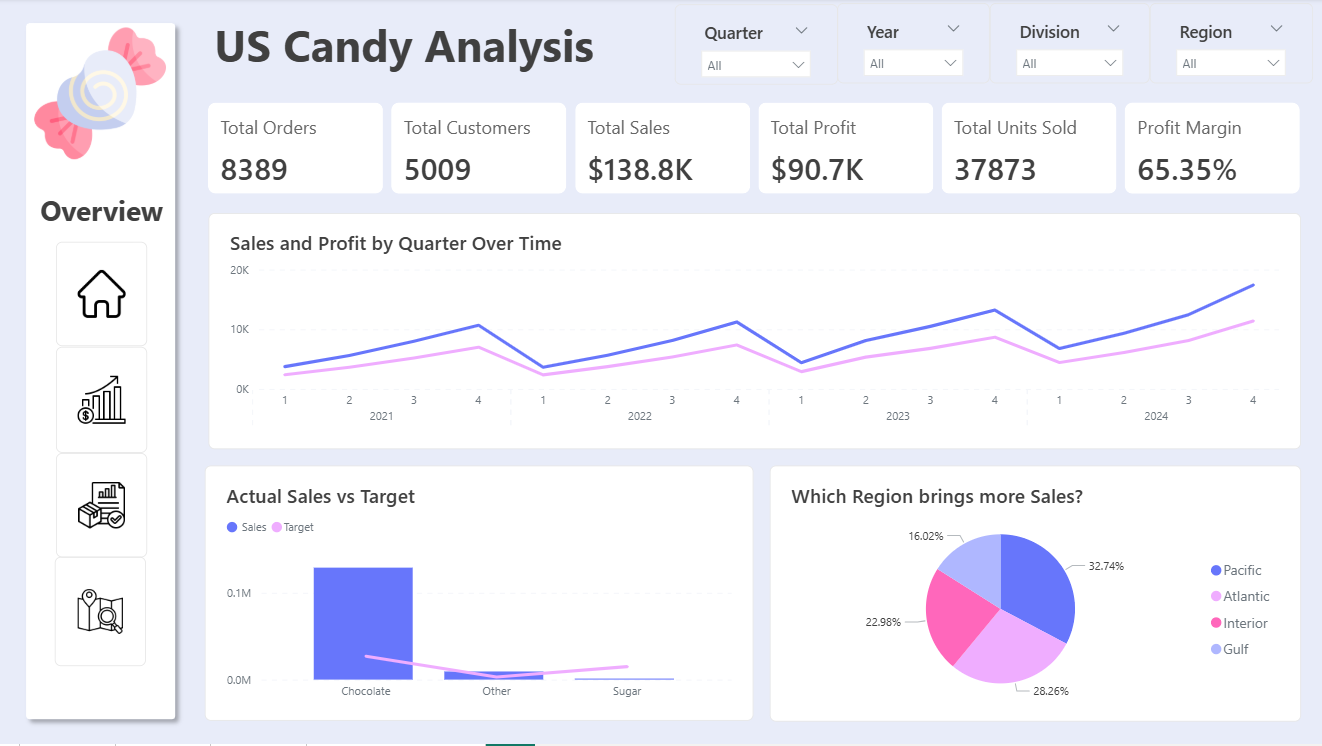

What the dashboard file says about the page in this screenshot:
{"tool":"powerbi","page":{"name":"Page 1","canvas":[1280,720],"ordinal":0},"visuals":[{"type":"shape","box":[0,0,202,719.9],"z":0},{"type":"slicer","fields":{"Values":["DimDate.Year"]},"box":[812.3,4.3,147.2,77.9],"z":1000},{"type":"textbox","box":[190.4,0,458.8,103.9],"z":2000},{"type":"slicer","fields":{"Values":["FactSales1.Division"]},"box":[959.4,4.3,154.4,77.9],"z":3000},{"type":"image","box":[57.7,235.2,88,101],"z":4000},{"type":"slicer","fields":{"Values":["DimZips5.Region"]},"box":[1113.8,4.3,157.3,77.9],"z":5000},{"type":"image","box":[57.7,438.6,88,101],"z":6000},{"type":"image","box":[57.7,336.2,88,102.4],"z":7000},{"type":"image","box":[56.3,539.6,88,105.3],"z":8000},{"type":"image","box":[17.3,5.8,167.4,171.7],"z":9000},{"type":"lineStackedColumnComboChart","title":"Actual Sales vs Target","fields":{"Category":["DimTargets4.Division"],"Y":["Sum(FactSales1.Sales)"],"Y2":["Sum(DimTargets4.Target)"]},"box":[201.5,451.2,529.6,246.1],"z":10000},{"type":"lineChart","title":"Sales and Profit by Quarter Over Time","fields":{"Y":["Sum(FactSales1.Sales)","Sum(FactSales1.Gross_Profit)"],"Category":["DimDate.Year","DimDate.Quarter"]},"box":[205.1,207.5,1054.4,228],"z":11001},{"type":"pieChart","title":"Which Region brings more Sales?","fields":{"Category":["DimZips5.Region"],"Y":["Sum(FactSales1.Sales)"]},"box":[746.8,451.2,512.7,247.3],"z":11003},{"type":"textbox","box":[13.3,171.3,177.3,65.1],"z":11004},{"type":"slicer","fields":{"Values":["DimDate.Quarter"]},"box":[655,5.8,157.3,77.9],"z":11005},{"type":"cardVisual","fields":{"Data":["Table.Total Orders","Table.Total Customers","Table.Total Sales","Table.Total Profit","Table.Total Units Sold","Table.Profit Margin"]},"box":[184.7,85.1,1095.1,118.3],"z":11006}]}

Visuals, with their boxes in screenshot pixels (x1, y1, x2, y2), scaled from the page's 1280x720 canvas onto the 1322x746 screenshot:
shape: bbox=[0, 0, 209, 745]
slicer - DimDate.Year: bbox=[839, 4, 991, 85]
textbox: bbox=[197, 0, 671, 108]
slicer - FactSales1.Division: bbox=[991, 4, 1150, 85]
image: bbox=[60, 244, 150, 348]
slicer - DimZips5.Region: bbox=[1150, 4, 1313, 85]
image: bbox=[60, 454, 150, 559]
image: bbox=[60, 348, 150, 454]
image: bbox=[58, 559, 149, 668]
image: bbox=[18, 6, 191, 184]
"Actual Sales vs Target" lineStackedColumnComboChart: bbox=[208, 467, 755, 722]
"Sales and Profit by Quarter Over Time" lineChart: bbox=[212, 215, 1301, 451]
"Which Region brings more Sales?" pieChart: bbox=[771, 467, 1301, 724]
textbox: bbox=[14, 177, 197, 245]
slicer - DimDate.Quarter: bbox=[676, 6, 839, 87]
cardVisual - Table.Total Orders x Table.Total Customers: bbox=[191, 88, 1321, 211]
